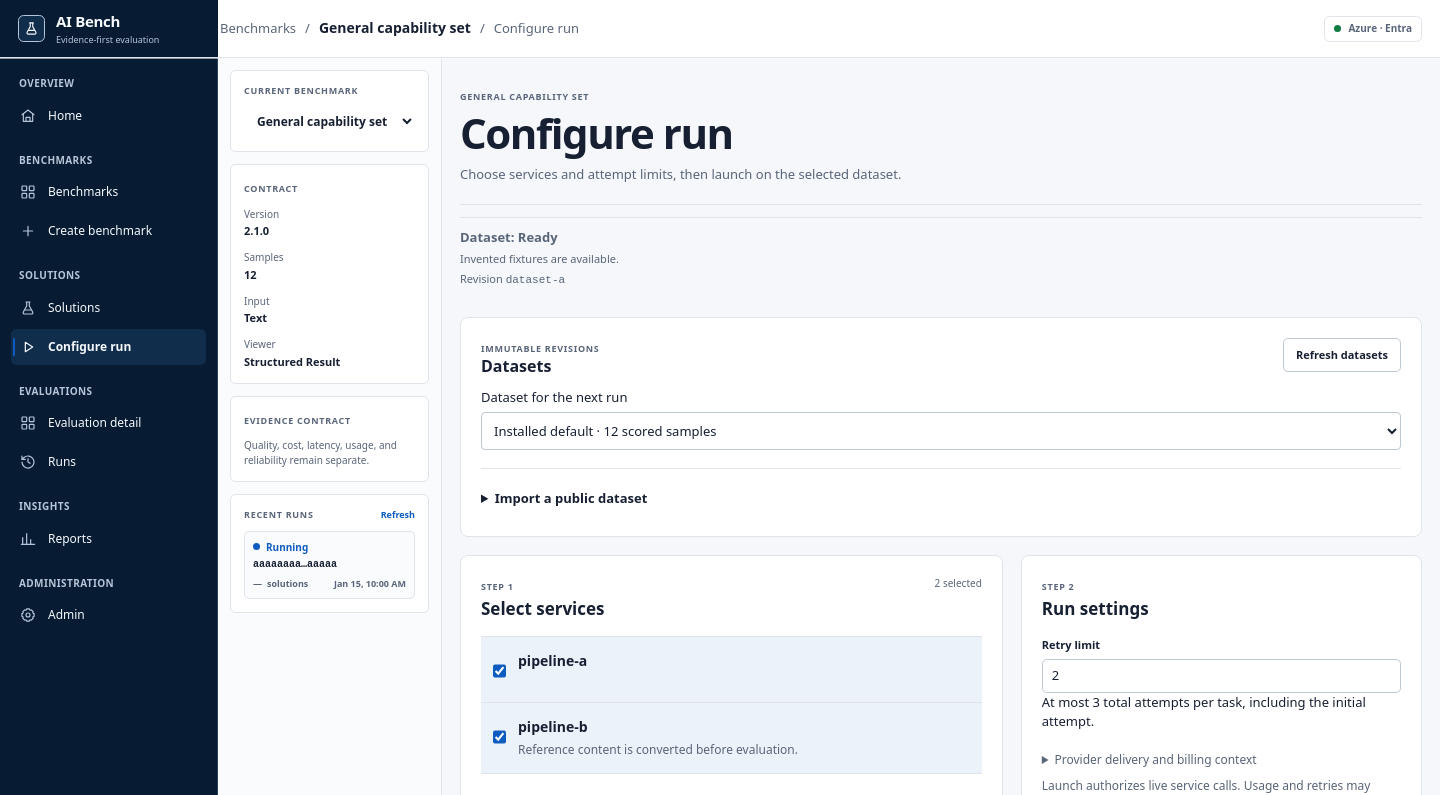
hosted dataset and landing state › keeps a newer selection when an old dataset response ignores abort
Select "Synthetic public examples · 3 scored samples · expires 9/28/2026" in the dropdown labelled "Dataset for the next run": (941, 431) [481,412,1401,450]
(page scrolled)
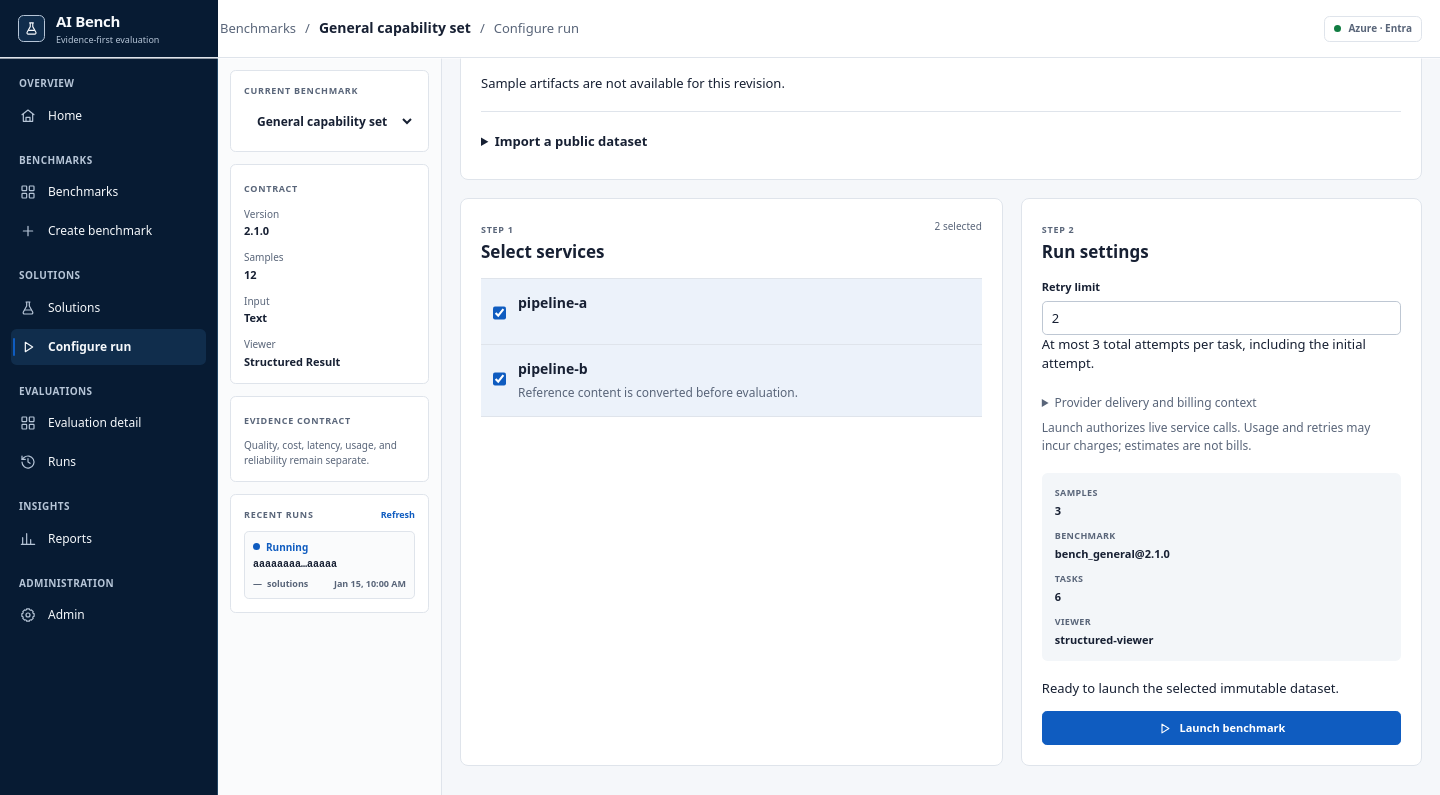
Expected: the element with class "dataset-details" shows "uploaded-synthetic", [535,43,675,58]
Expected: the button "Launch benchmark" is enabled, [1042,711,1401,745]
